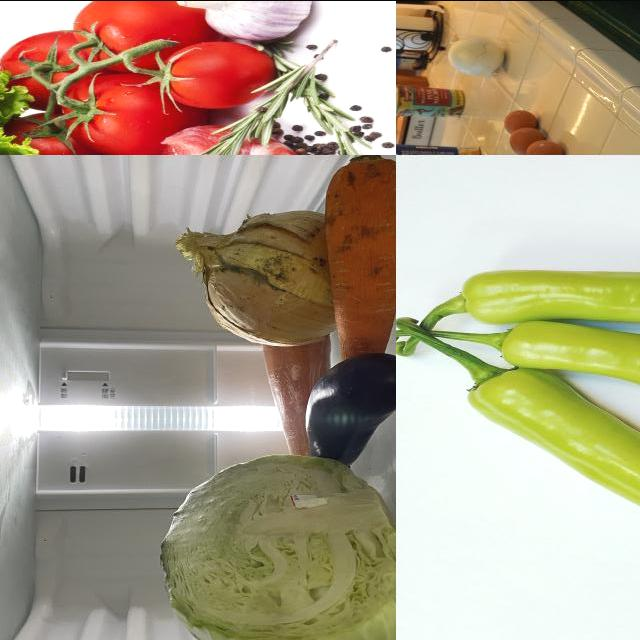cabbage: (154, 453, 397, 640)
carrot: (323, 156, 397, 360), (260, 327, 328, 454)
egg: (508, 128, 548, 155), (507, 111, 541, 135), (529, 143, 566, 155)
eggplant: (308, 353, 397, 465)
garlic: (184, 1, 317, 38)
onion: (183, 200, 341, 348), (447, 37, 506, 75)
tomato: (55, 77, 191, 151), (63, 1, 216, 64), (152, 49, 276, 109), (1, 33, 122, 94)
